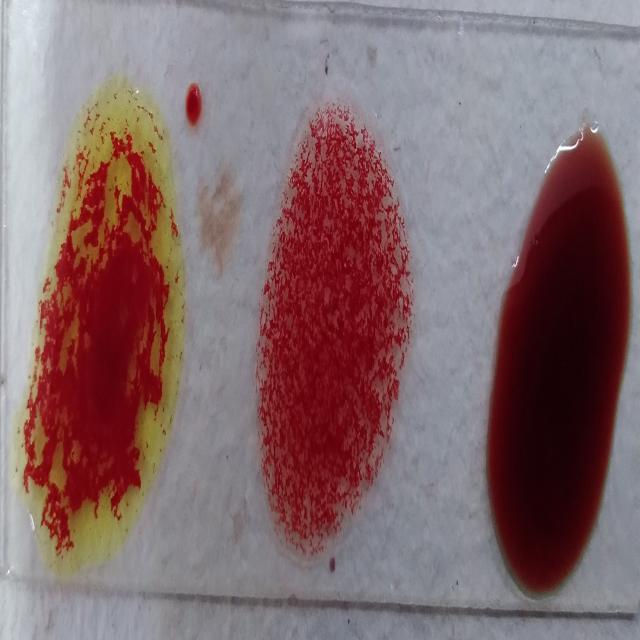B: (25, 93, 186, 550)
D: (260, 89, 413, 564)
